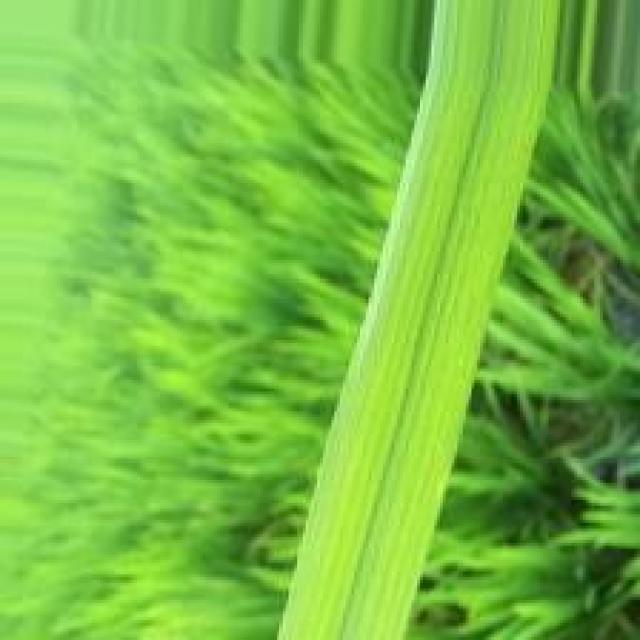HealthyLeaf: (310, 78, 519, 622)
